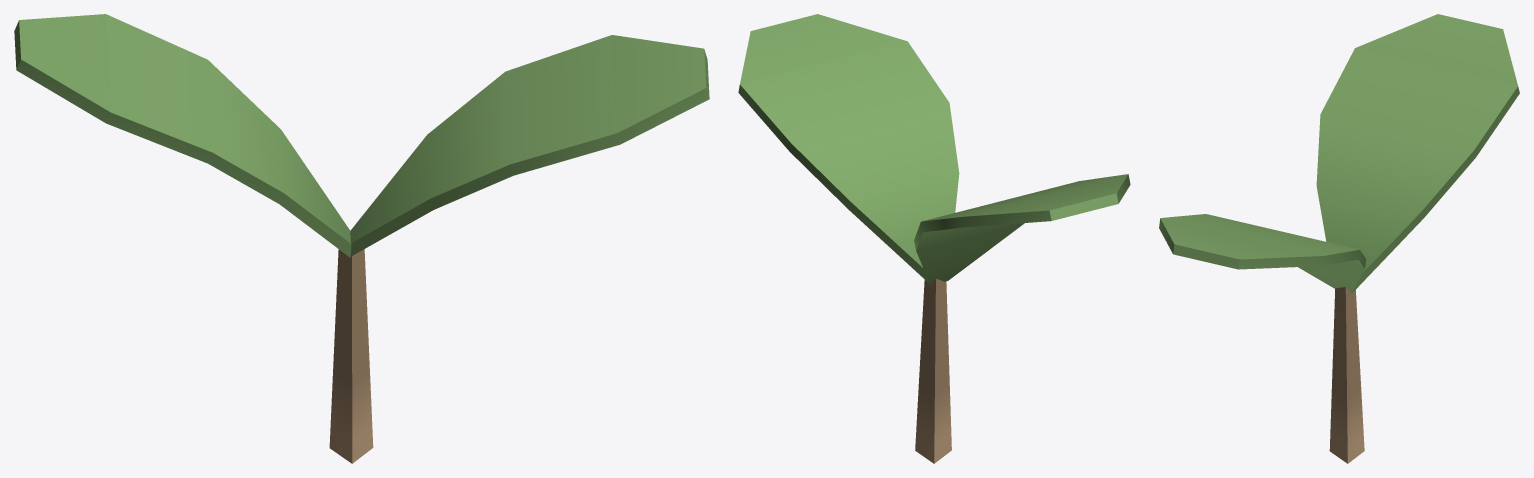
The model's file is plant1.fbx.
The picture shows the model from 3 angles, left to right: view 1: azimuth 30°, elevation 25°; view 2: azimuth 150°, elevation 25°; view 3: azimuth 270°, elevation 25°; orthographic projection. The views are drawn at different scales.
Parts seen in each view (by area): view 1: polySurface2047; view 2: polySurface2047; view 3: polySurface2047.
Part boxes in pixels (left/top/right/bottom): polySurface2047: left=14, top=14, right=709, bottom=463; polySurface2047: left=738, top=14, right=1130, bottom=463; polySurface2047: left=1159, top=14, right=1519, bottom=463.
Size of the model in its own units: 1.13 by 0.8021 by 0.7839.
1 material, 1 textured.
